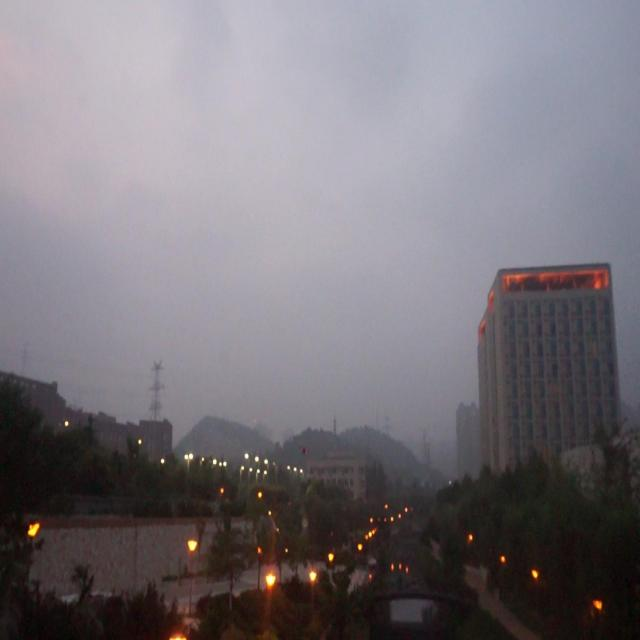UAV: (300, 446, 309, 455)
